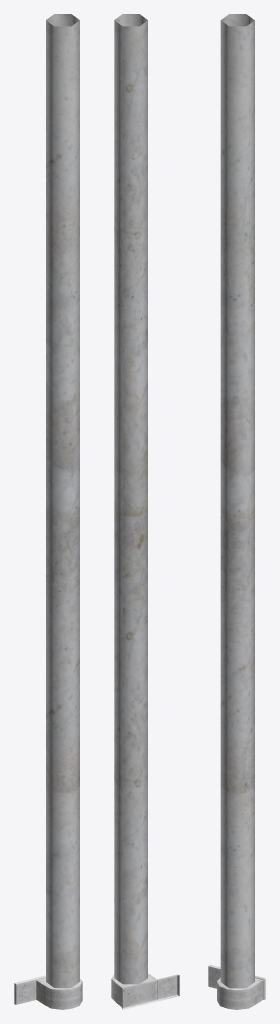
The model's file is SM_Wires_Pipes_01hh.glb.
3 renders of one model, left to right at view 1: azimuth 30°, elevation 25°; view 2: azimuth 210°, elevation 25°; view 3: azimuth 330°, elevation 25°, orthographic.
Parts seen in each view (by area): view 1: SM_Wires_Pipes_01hh; view 2: SM_Wires_Pipes_01hh; view 3: SM_Wires_Pipes_01hh.
Boxes of the visible parts, x1,y1,x2,y2 form: SM_Wires_Pipes_01hh: (14, 14, 82, 1009); SM_Wires_Pipes_01hh: (111, 14, 179, 1009); SM_Wires_Pipes_01hh: (208, 14, 265, 1009).
Size of the model in its own units: 0.0605 by 1 by 0.0367.
1 material, 1 textured.
